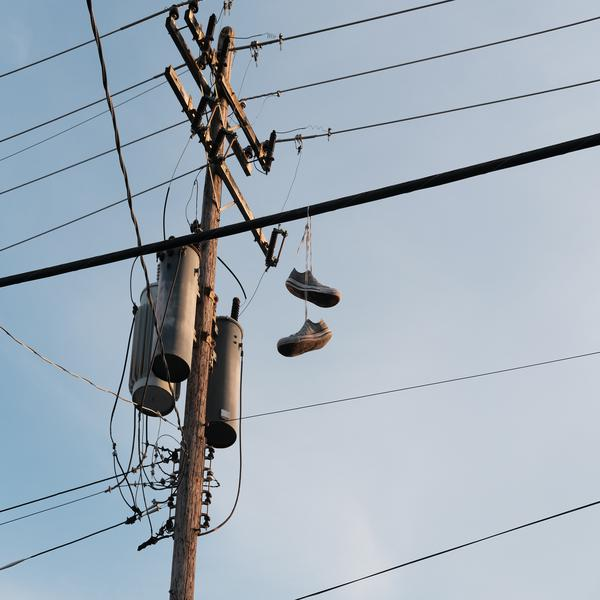utility_pole: (141, 1, 289, 242)
